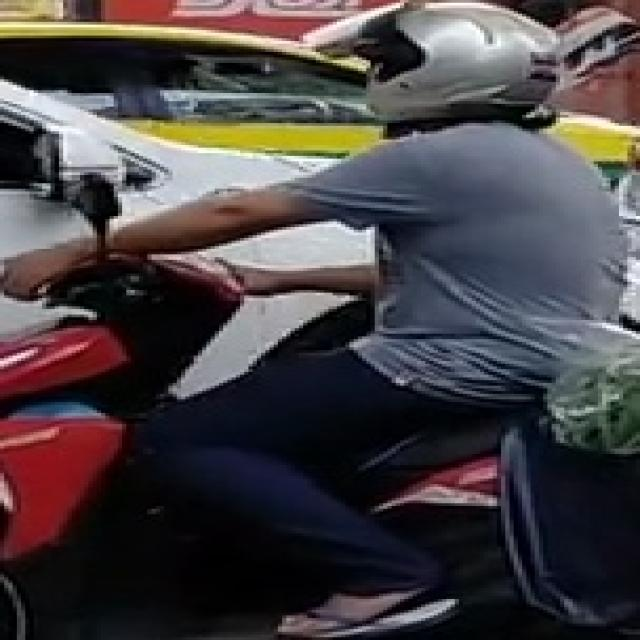helmet: (349, 0, 560, 123)
